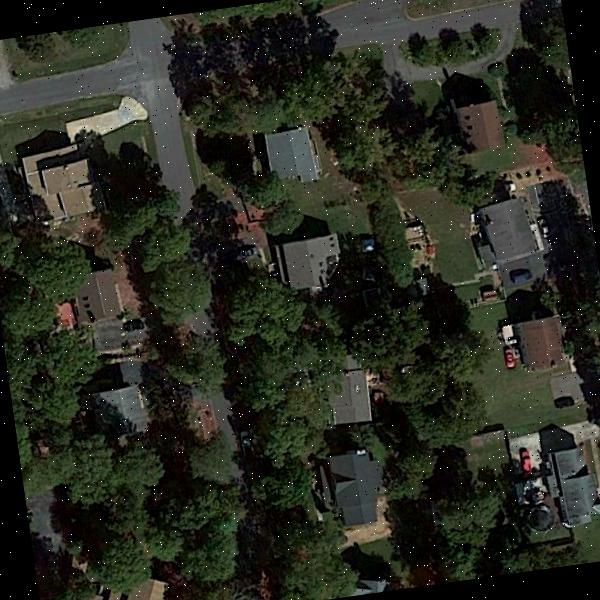Buildings: (15, 142, 101, 222), (316, 444, 383, 524), (473, 197, 542, 268), (280, 234, 351, 296), (264, 125, 325, 192), (548, 446, 598, 516), (513, 314, 569, 373), (96, 382, 151, 432), (79, 274, 123, 326), (329, 374, 372, 426), (456, 103, 498, 155), (120, 589, 181, 600)
